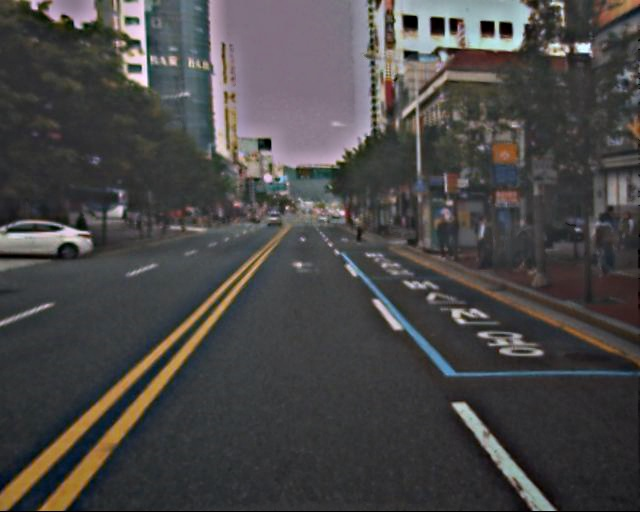person: (590, 214, 617, 279), (513, 216, 539, 279), (470, 215, 490, 264), (611, 208, 633, 248), (445, 213, 463, 257), (435, 215, 453, 258), (352, 212, 366, 245)
